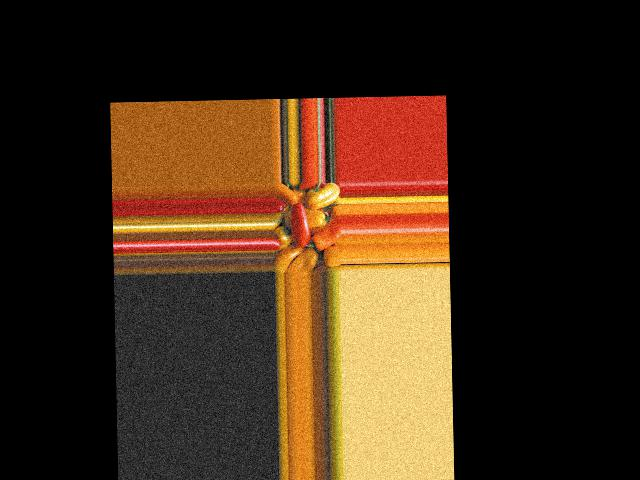bell_pepper: (307, 182, 339, 211)
